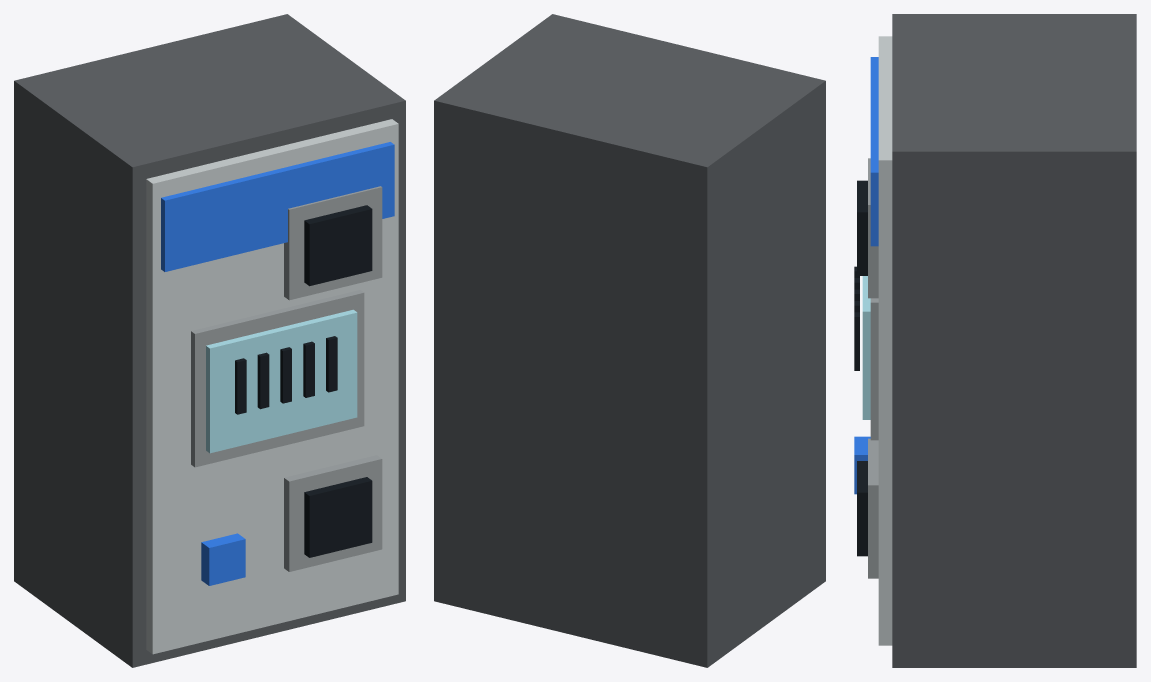
Rendered from accura_2350_3p.glb.
The picture shows the model from 3 angles, left to right: view 1: azimuth 30°, elevation 25°; view 2: azimuth 150°, elevation 25°; view 3: azimuth 270°, elevation 25°; orthographic projection. The views are drawn at different scales.
Parts seen in each view (by area): view 1: meter body, front face, type label, LCD, network socket rim (×2), network socket (×2), display frame, LCD segment (×5), button; view 2: meter body; view 3: meter body, front face, network socket rim (×2), network socket (×2), type label, display frame, LCD, button.
Boxes of the visible parts, x1,y1,x2,y2 form: meter body: [14, 14, 405, 667]; front face: [146, 119, 398, 654]; type label: [161, 142, 394, 271]; LCD: [206, 309, 357, 453]; network socket rim (×2): [284, 186, 382, 571]; network socket (×2): [304, 205, 372, 557]; display frame: [191, 290, 364, 467]; LCD segment (×5): [235, 336, 337, 414]; button: [201, 533, 245, 585]; meter body: [434, 14, 825, 667]; meter body: [892, 14, 1136, 667]; front face: [878, 36, 892, 645]; network socket rim (×2): [868, 158, 878, 578]; network socket (×2): [857, 180, 867, 556]; type label: [870, 57, 878, 246]; display frame: [870, 298, 878, 440]; LCD: [862, 276, 870, 419]; button: [854, 436, 870, 494].
Bounding box in the file's own units: 0.06 × 0.105 × 0.052.
